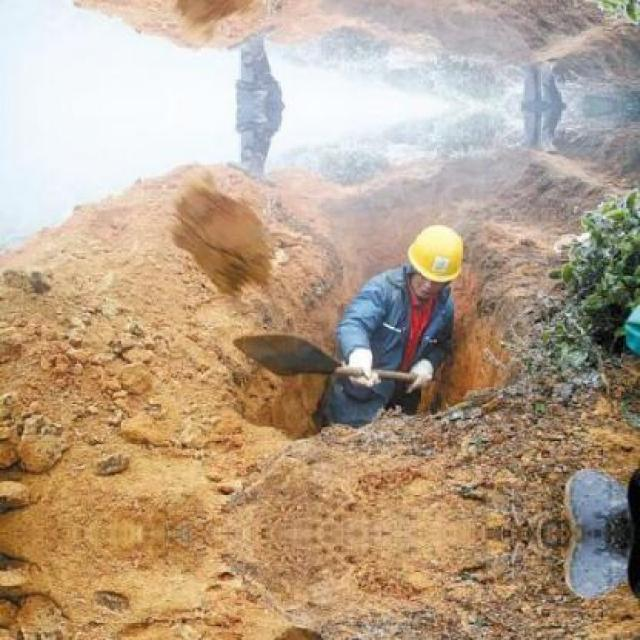helmet: (401, 217, 470, 303)
